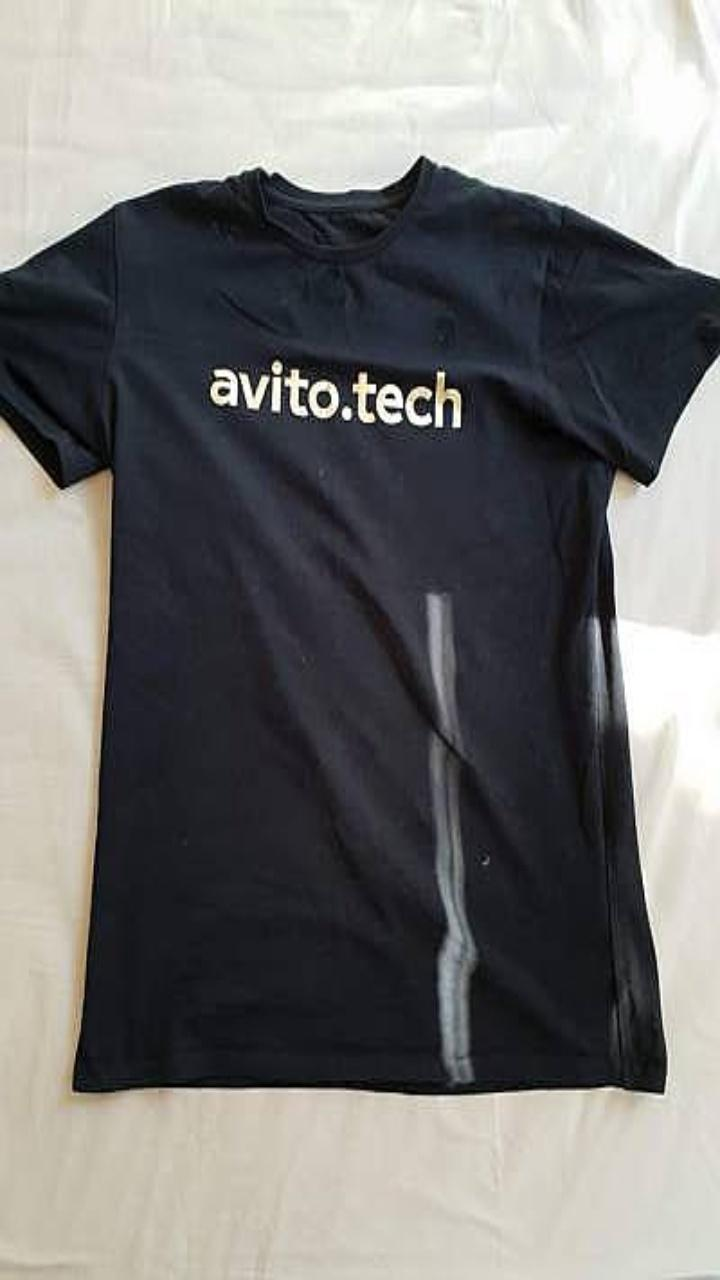T-Shirt: (0, 155, 719, 1092)
